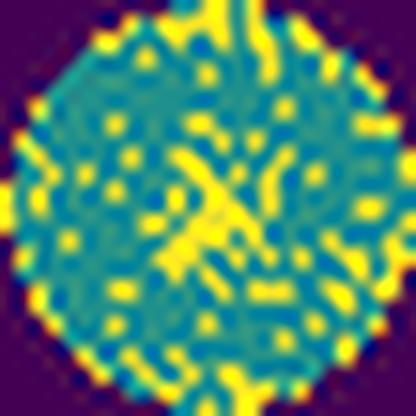Center: (150, 140, 284, 293)
